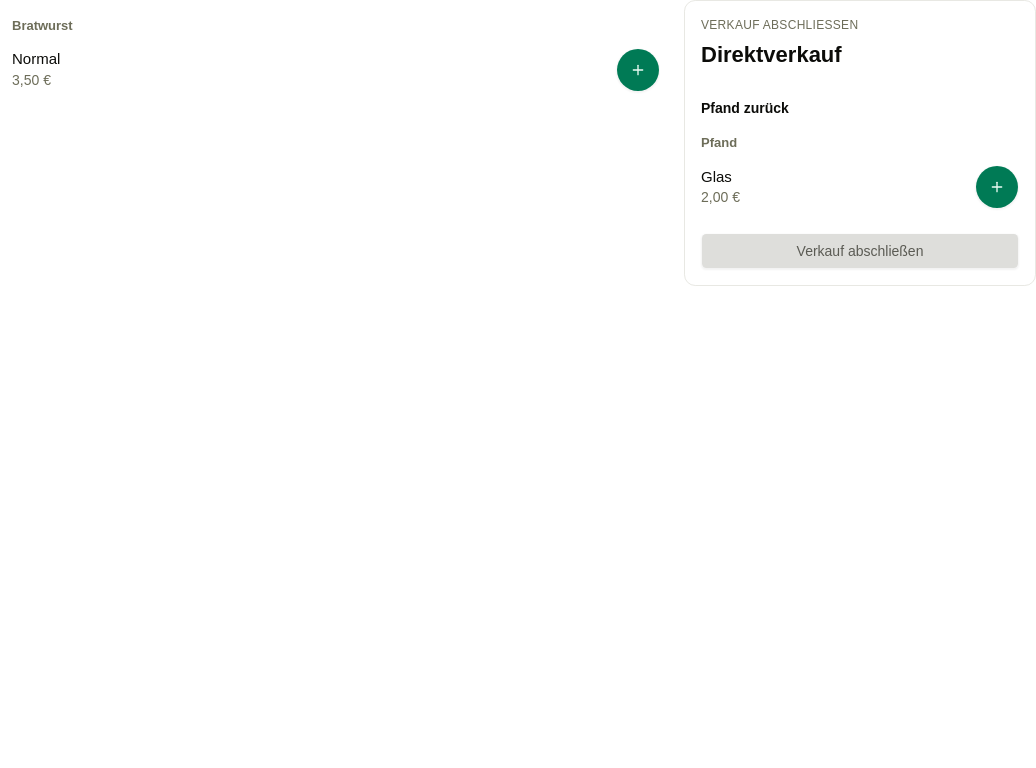
Test: DirektverkaufTab › leert nach pfandrueckgabe_abweichend den Korb, der nächste Verkauf trägt eine neue verkaufId
The image size is (1036, 768).
Later steps or results of the test are not shown.
Click the button named "Variante hinzufügen" in the row of "Normal".
click(638, 70)  # box [616,48,660,92]
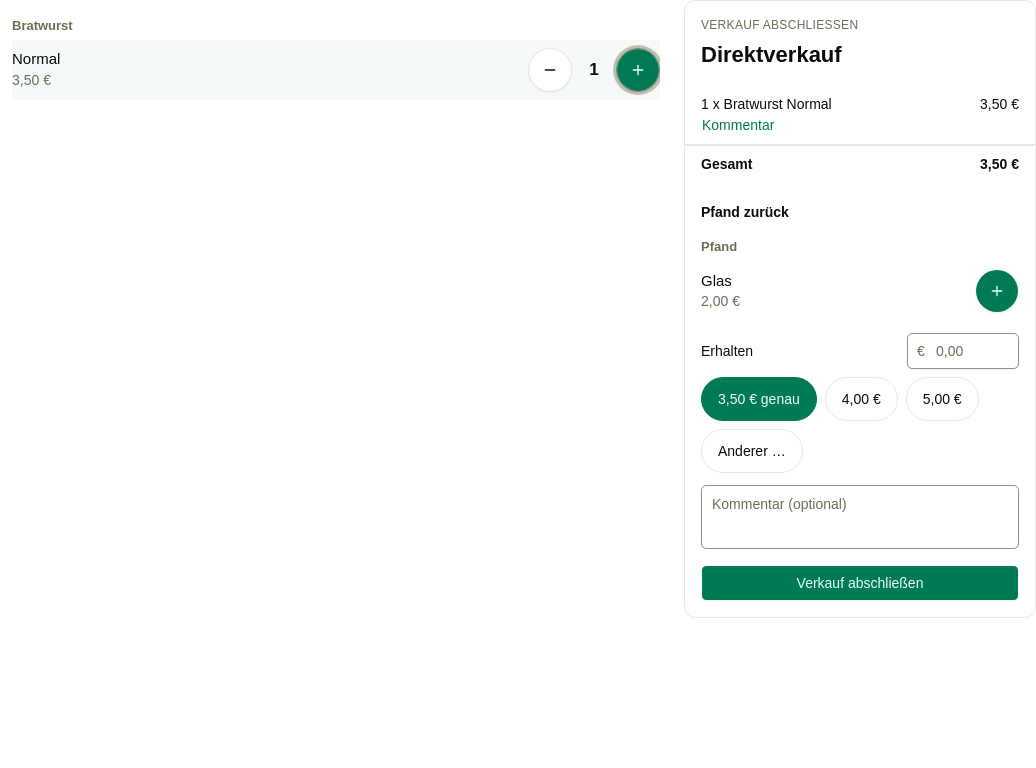
Click the button named "Variante hinzufügen" in the row of "2,00 €".
click(997, 291)  # box [975,269,1019,313]
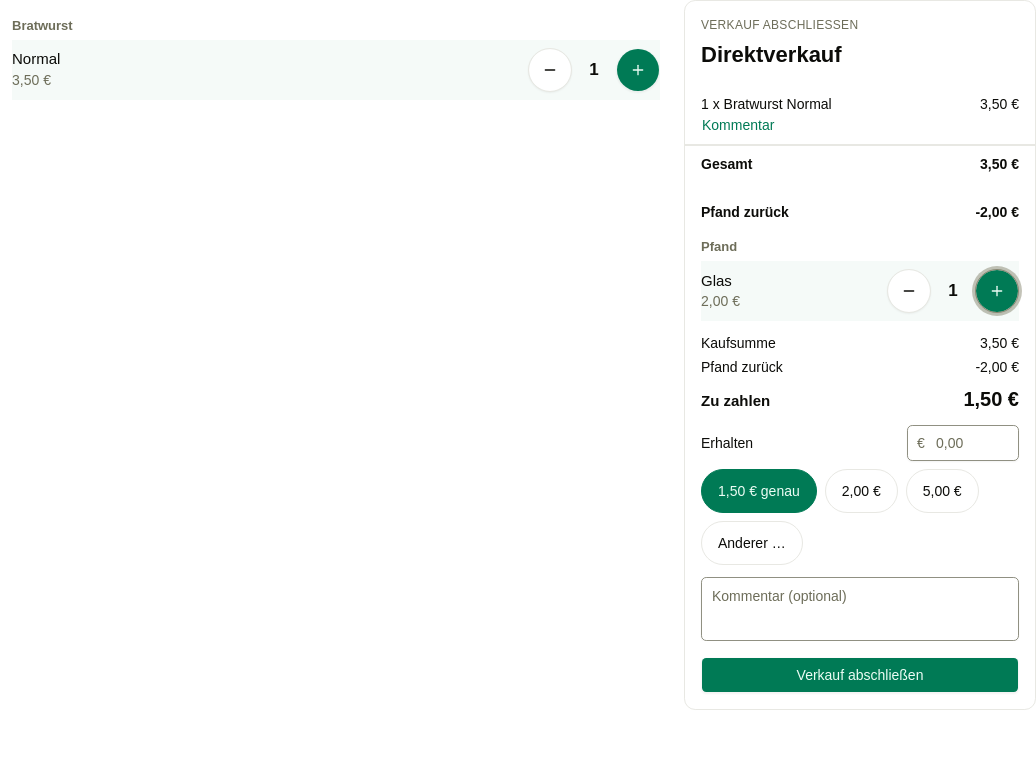
Click the button "Verkauf abschließen".
click(860, 675)  # box [701,657,1019,693]
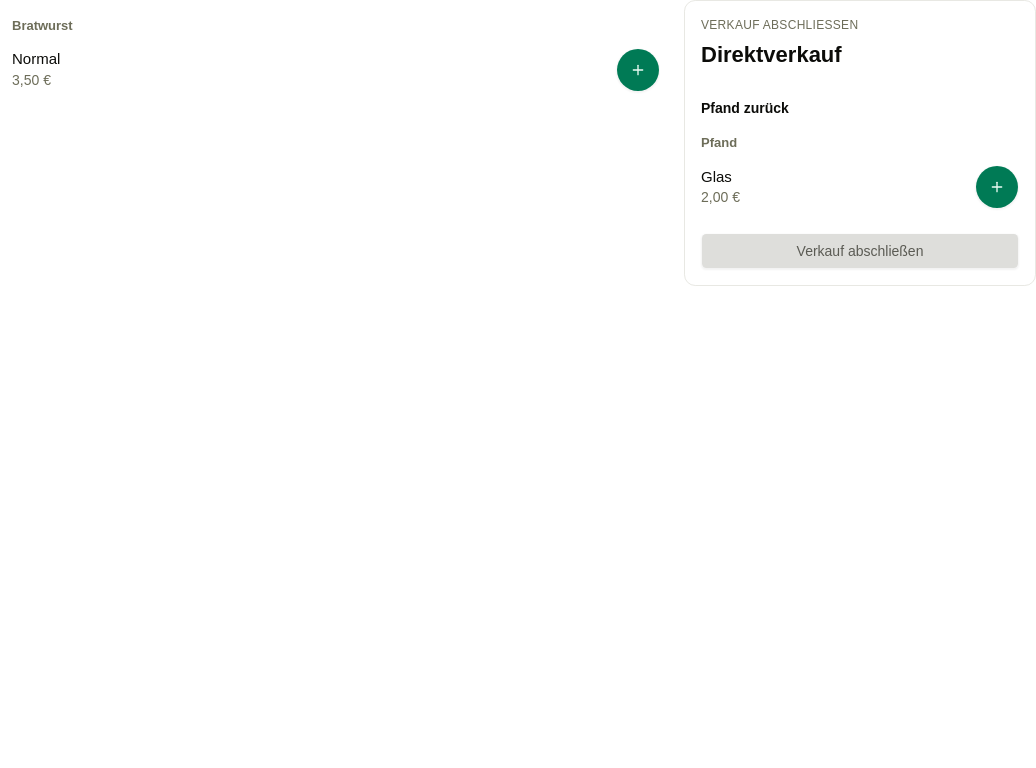
Check: the button "Verkauf abschließen" is disabled, box [701,233,1019,269]
